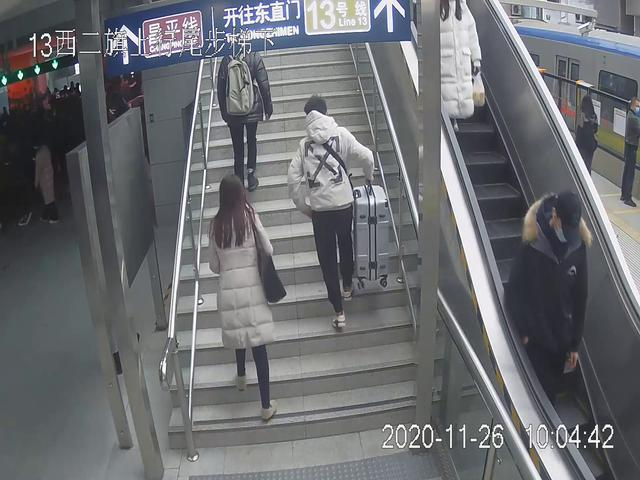person: (286, 93, 394, 334), (202, 167, 289, 425), (504, 190, 593, 423), (214, 39, 276, 196), (425, 1, 489, 139)
